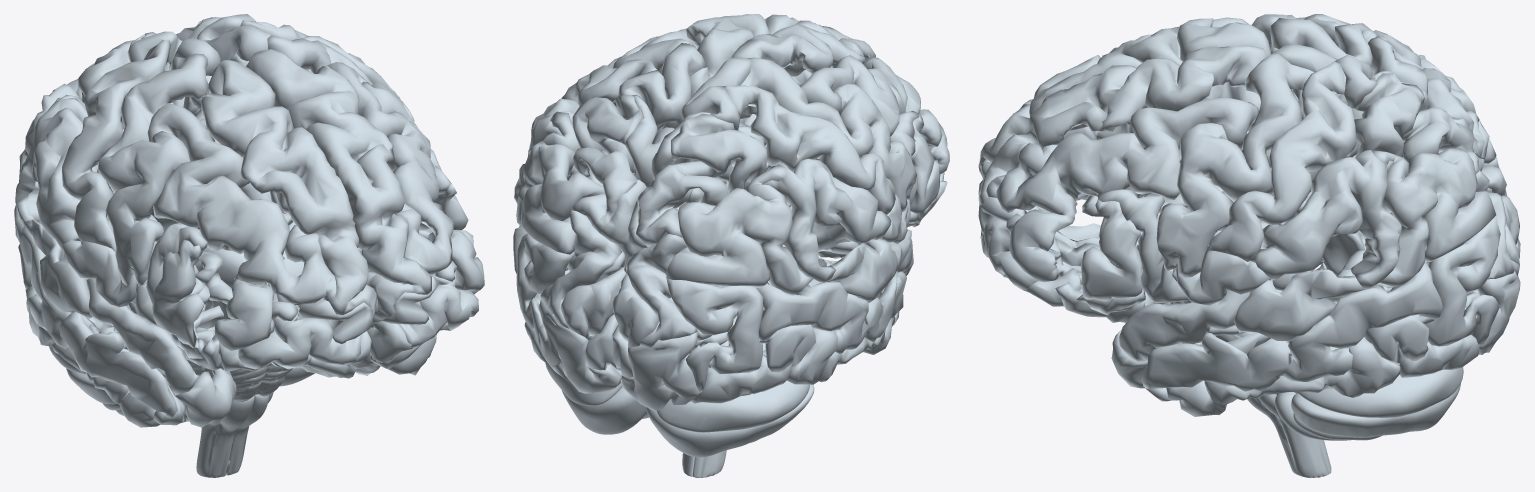
File: cerveau.glb
3 renders of one model, left to right at view 1: azimuth 30°, elevation 25°; view 2: azimuth 150°, elevation 25°; view 3: azimuth 270°, elevation 25°, orthographic. The views are drawn at different scales.
Visible parts, largest first — view 1: cerveau; view 2: cerveau; view 3: cerveau.
Part boxes in pixels (x1=…): cerveau: x1=14, y1=14, x2=484, y2=477; cerveau: x1=513, y1=14, x2=949, y2=477; cerveau: x1=978, y1=14, x2=1520, y2=477.
Bounding box in the file's own units: 0.1378 × 0.1608 × 0.1807.
